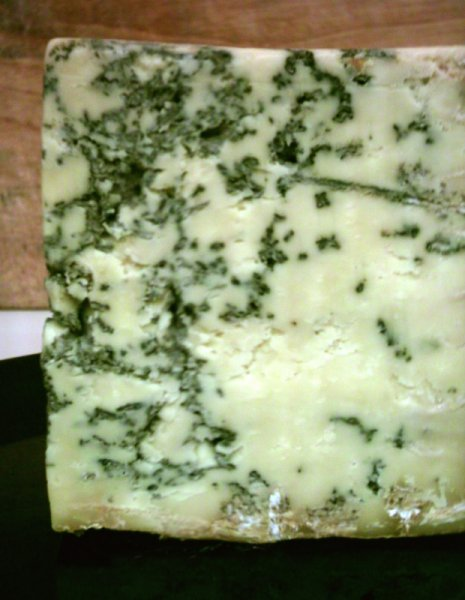Penicillium: (272, 64, 436, 223), (218, 460, 442, 540), (89, 60, 221, 183), (47, 264, 132, 385)
